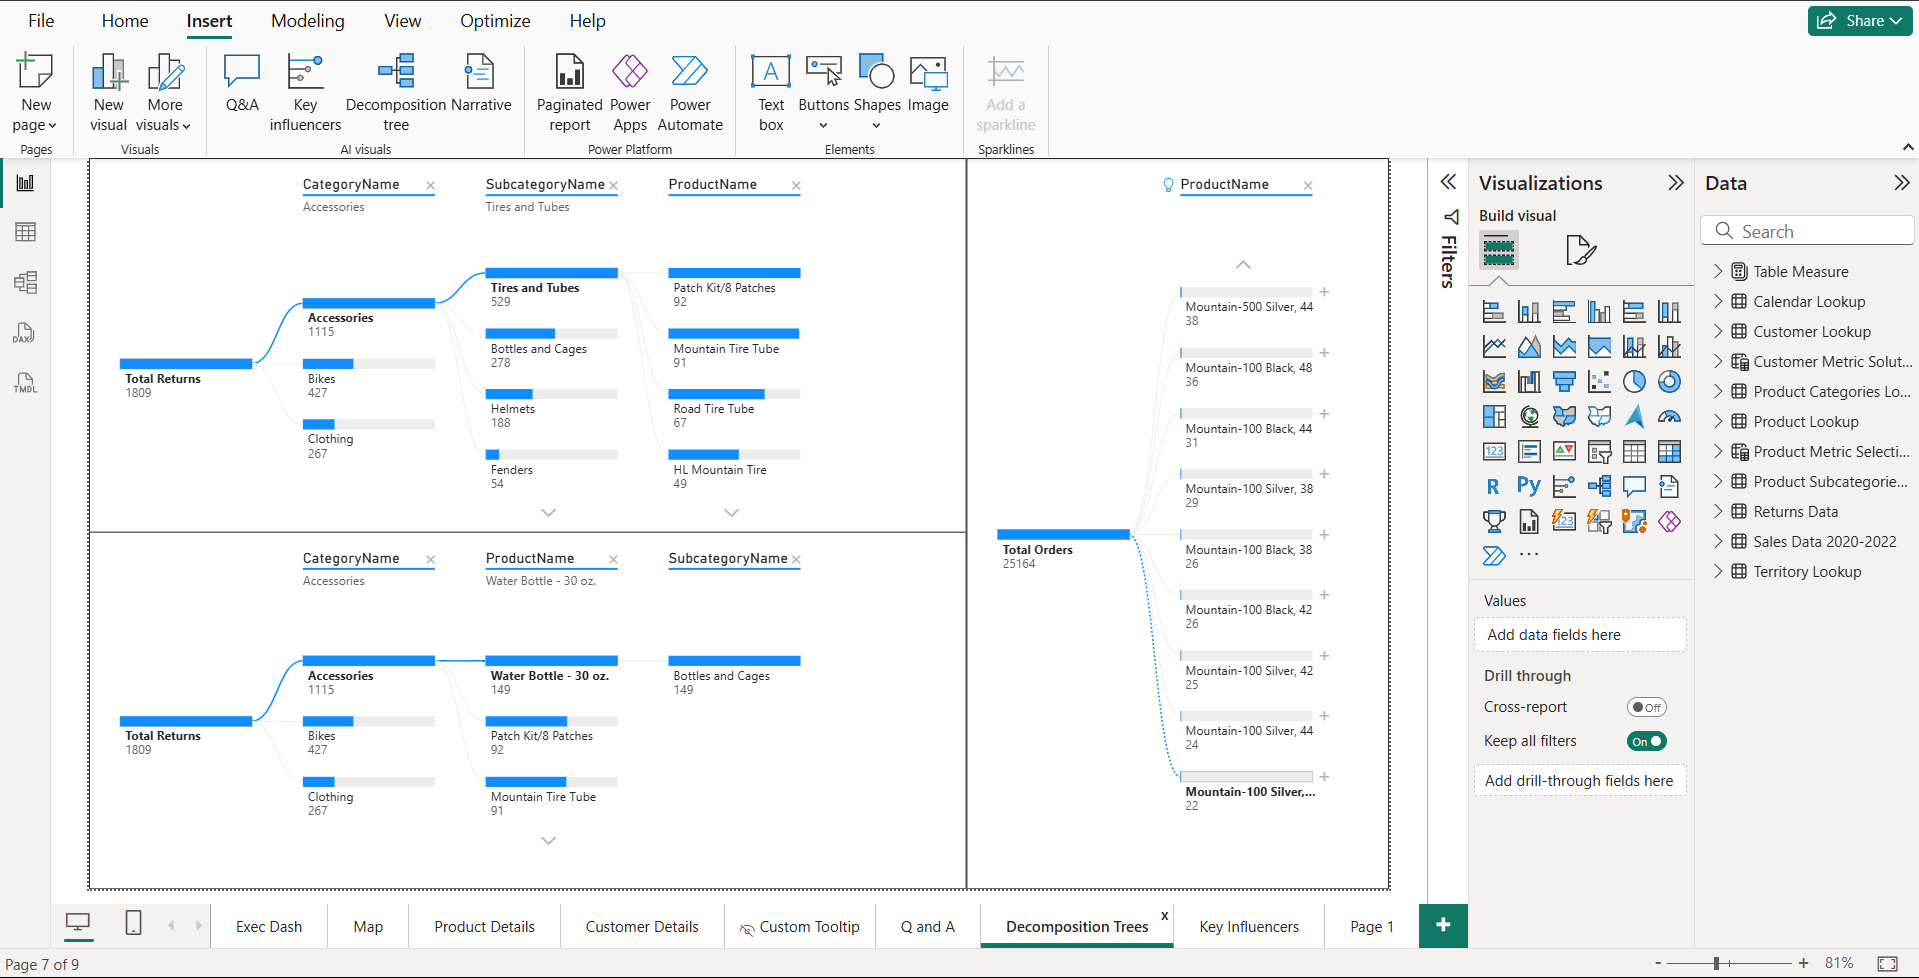

Layout of this report page (visuals, bound fields, positions):
{"tool":"powerbi","page":{"name":"Decomposition Trees","canvas":[1280,720],"ordinal":6},"visuals":[{"type":"decompositionTreeVisual","fields":{"Analyze":["Table Measure.Total Returns"],"ExplainBy":["Product Categories Lookup.CategoryName","Product Subcategories Lookup.SubcategoryName","Product Lookup.ProductName"]},"box":[16,16,848,336],"z":0},{"type":"decompositionTreeVisual","fields":{"Analyze":["Table Measure.Total Returns"],"ExplainBy":["Product Categories Lookup.CategoryName","Product Lookup.ProductName","Product Subcategories Lookup.SubcategoryName"]},"box":[16,368,848,336],"z":1000},{"type":"decompositionTreeVisual","fields":{"ExplainBy":["Product Lookup.ProductName","Product Subcategories Lookup.SubcategoryName","Product Categories Lookup.CategoryName"],"Analyze":["Table Measure.Total Orders"]},"box":[880,16,384,688],"z":2000}]}

Visuals, with their boxes on the page's 1280x720 design canvas (x1, y1, x2, y2). These are canvas units, not pixel positions in the 1919x978 screenshot, which may show the page scaled, cropped or inside an application window:
decompositionTreeVisual - Table Measure.Total Returns x Product Categories Lookup.CategoryName: detection(16, 16, 864, 352)
decompositionTreeVisual - Table Measure.Total Returns x Product Categories Lookup.CategoryName: detection(16, 368, 864, 704)
decompositionTreeVisual - Product Lookup.ProductName x Product Subcategories Lookup.SubcategoryName: detection(880, 16, 1264, 704)
